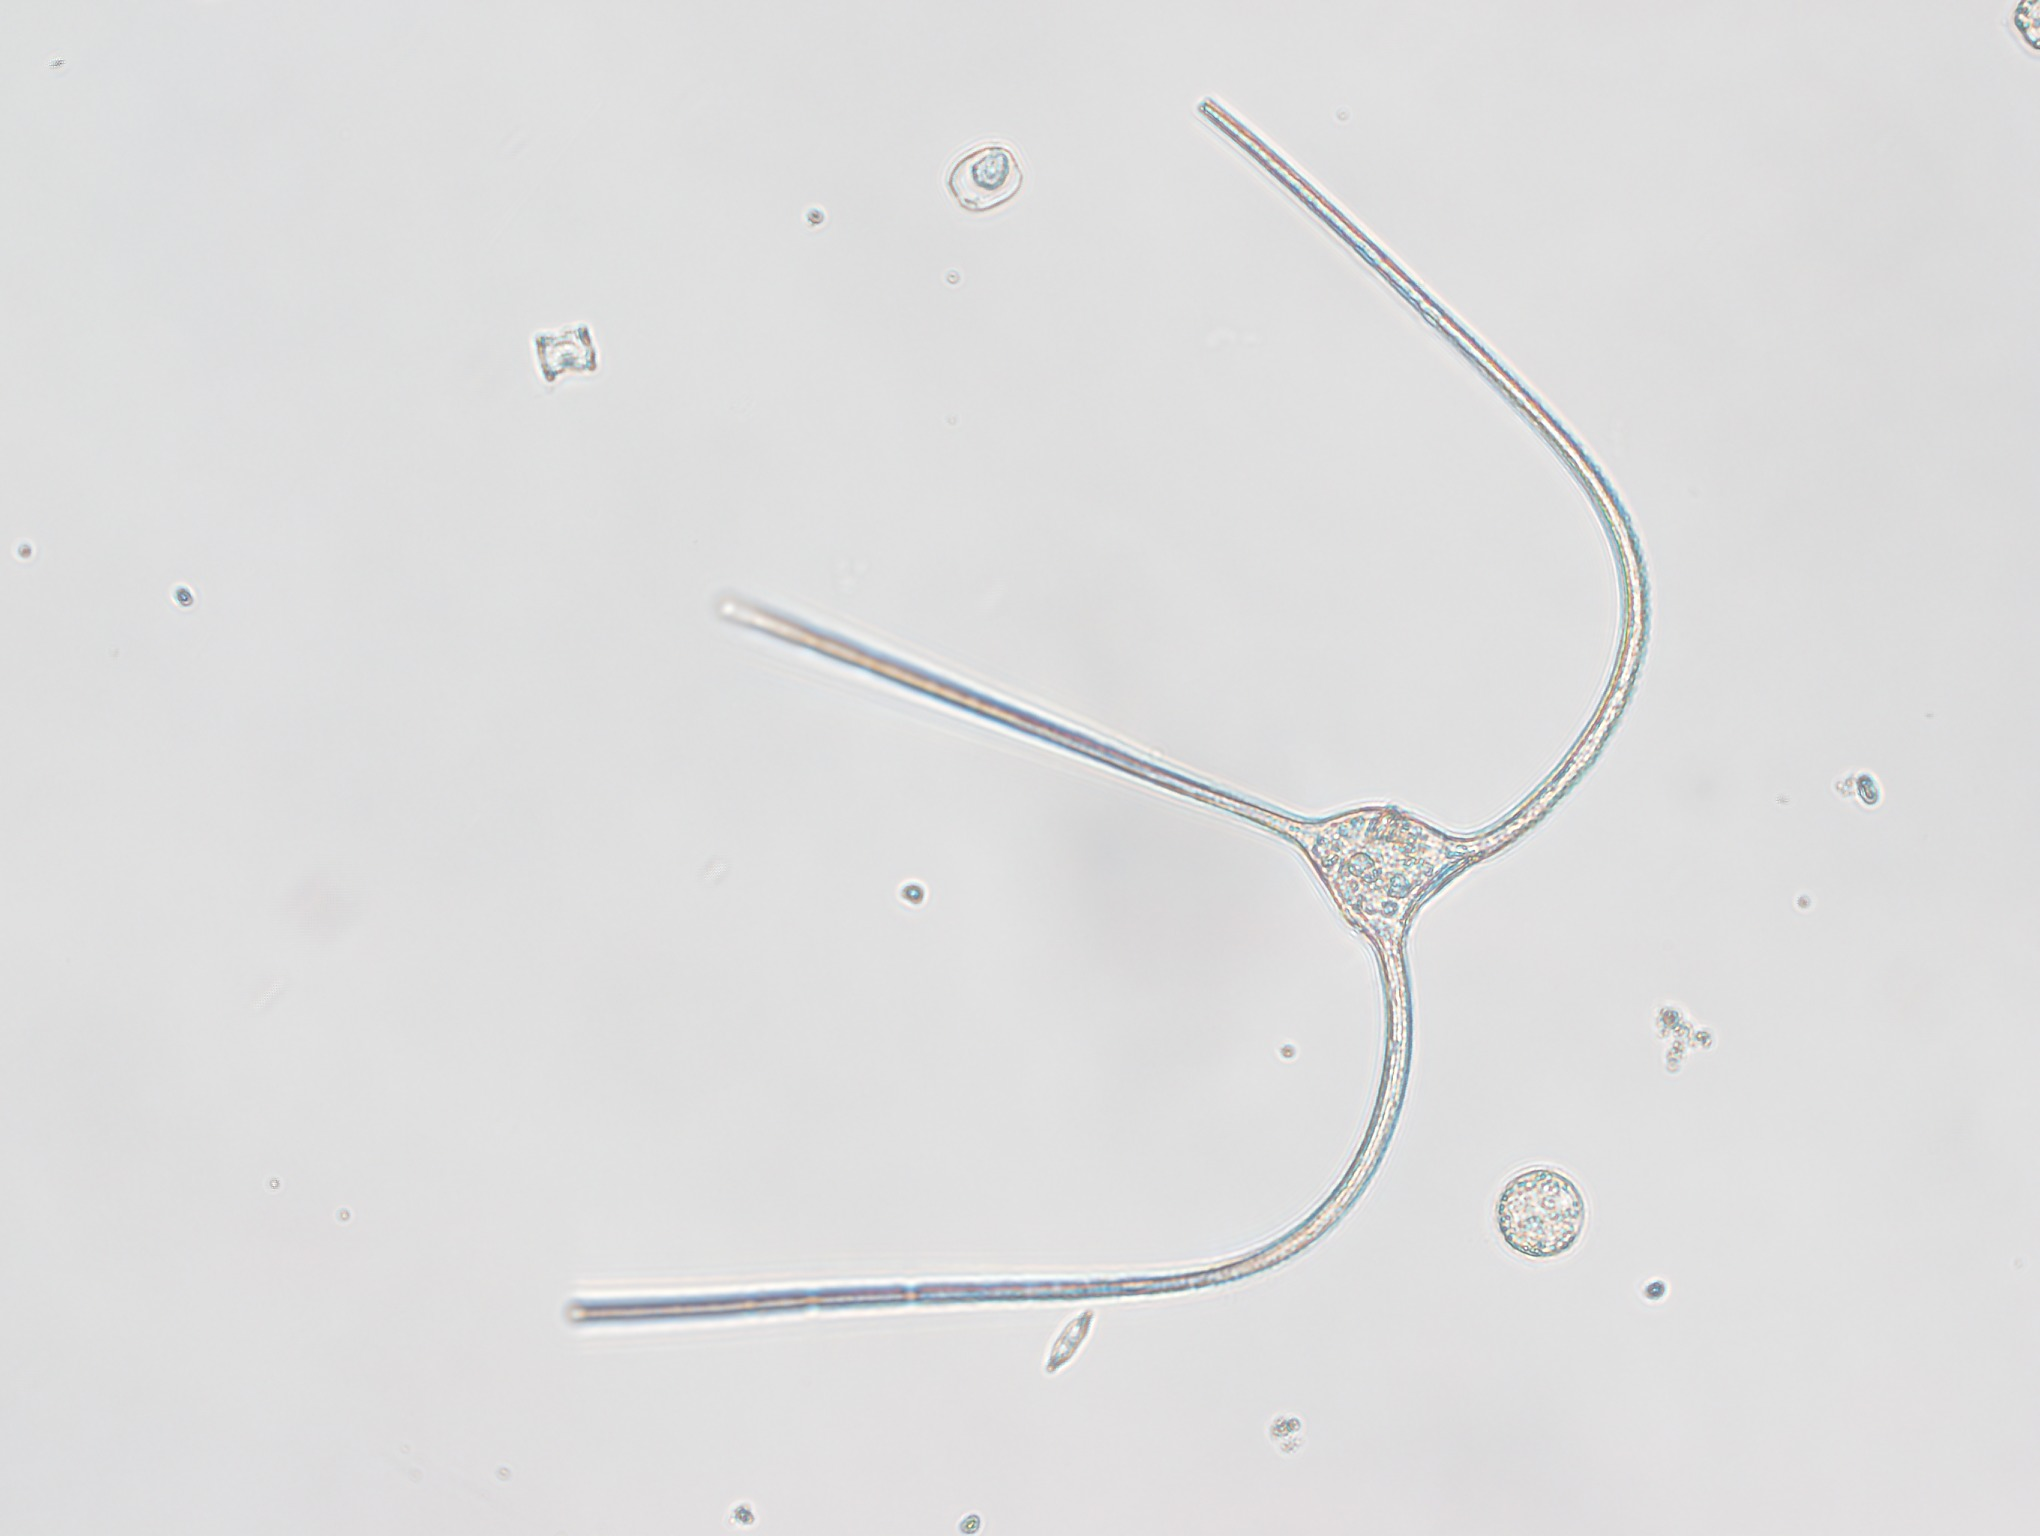ceratium trichoceros: (555, 65, 1659, 1381)
